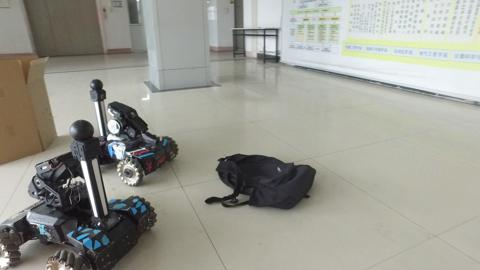chariot: (1, 121, 155, 265), (84, 75, 178, 184)
